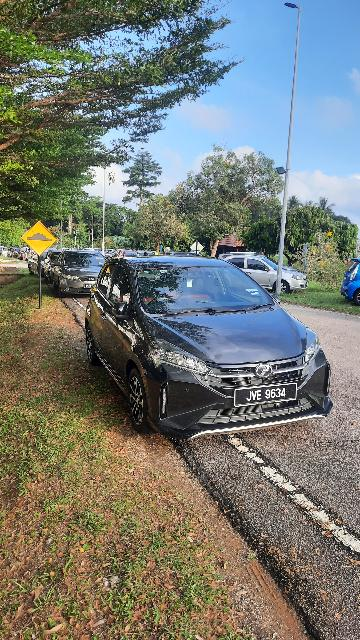License_Plate: (234, 383, 301, 409)
car: (84, 258, 339, 438)
